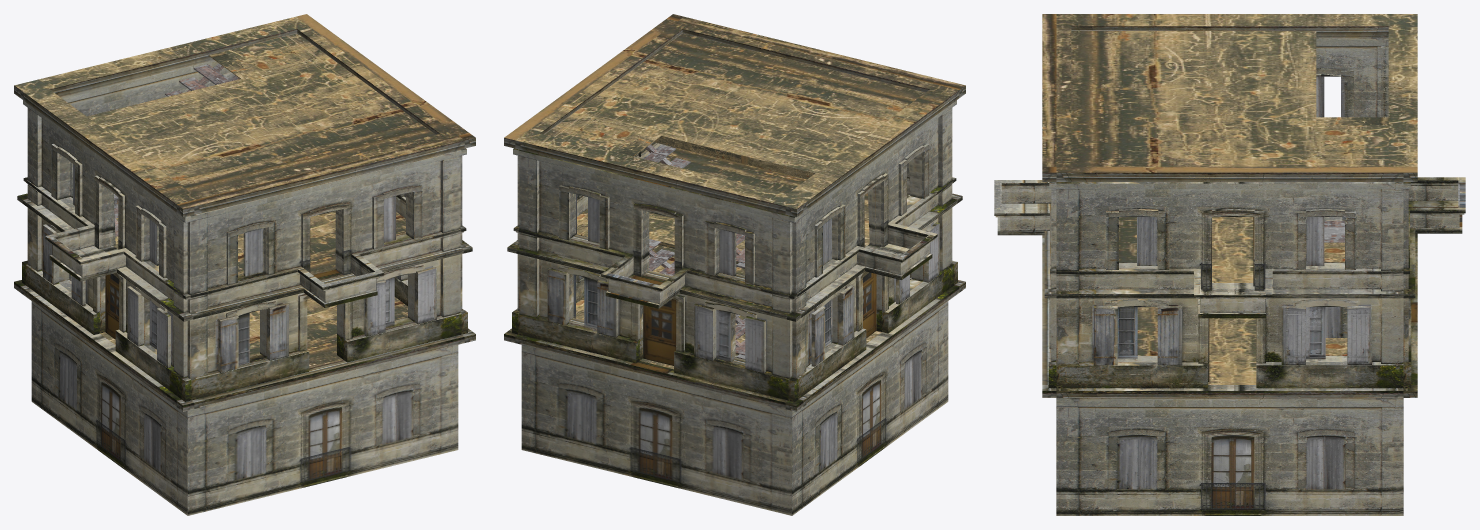
The model's file is BagBuilding20_200.fbx.
3 renders of one model, left to right at view 1: azimuth 30°, elevation 25°; view 2: azimuth 150°, elevation 25°; view 3: azimuth 270°, elevation 25°, orthographic. The views are drawn at different scales.
Visible parts, largest first — view 1: main200, floorsa200, stairs200; view 2: main200, floorsa200, stairs200; view 3: main200, floorsa200.
Boxes of the visible parts, <box> form: main200: <box>14,29,475,515</box>; floorsa200: <box>14,14,475,368</box>; stairs200: <box>70,63,239,280</box>; main200: <box>504,29,965,515</box>; floorsa200: <box>504,14,965,368</box>; stairs200: <box>634,144,745,359</box>; main200: <box>994,26,1465,515</box>; floorsa200: <box>1042,14,1417,384</box>.
Bounding box in the file's own units: 22.81 × 18.66 × 22.81.
